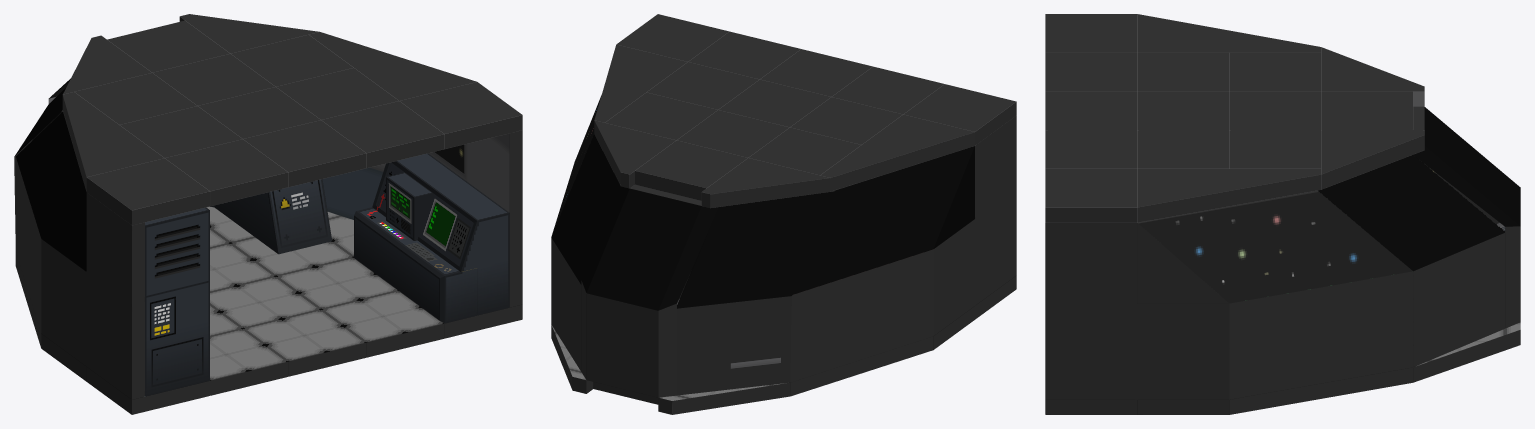
The model's file is ShipFlightDeck.obj.
3 views of the same model, side by side, from view 1: azimuth 30°, elevation 25°; view 2: azimuth 150°, elevation 25°; view 3: azimuth 270°, elevation 25° (orthographic). The views are drawn at different scales.
Visible parts, largest first — view 1: Floor; view 2: Floor; view 3: Floor.
Boxes of the visible parts, x1,y1,x2,y2 form: Floor: (14, 14, 522, 414); Floor: (551, 14, 1016, 414); Floor: (1045, 14, 1520, 414).
Bounding box in the file's own units: 5 × 2.5 × 5.19.
